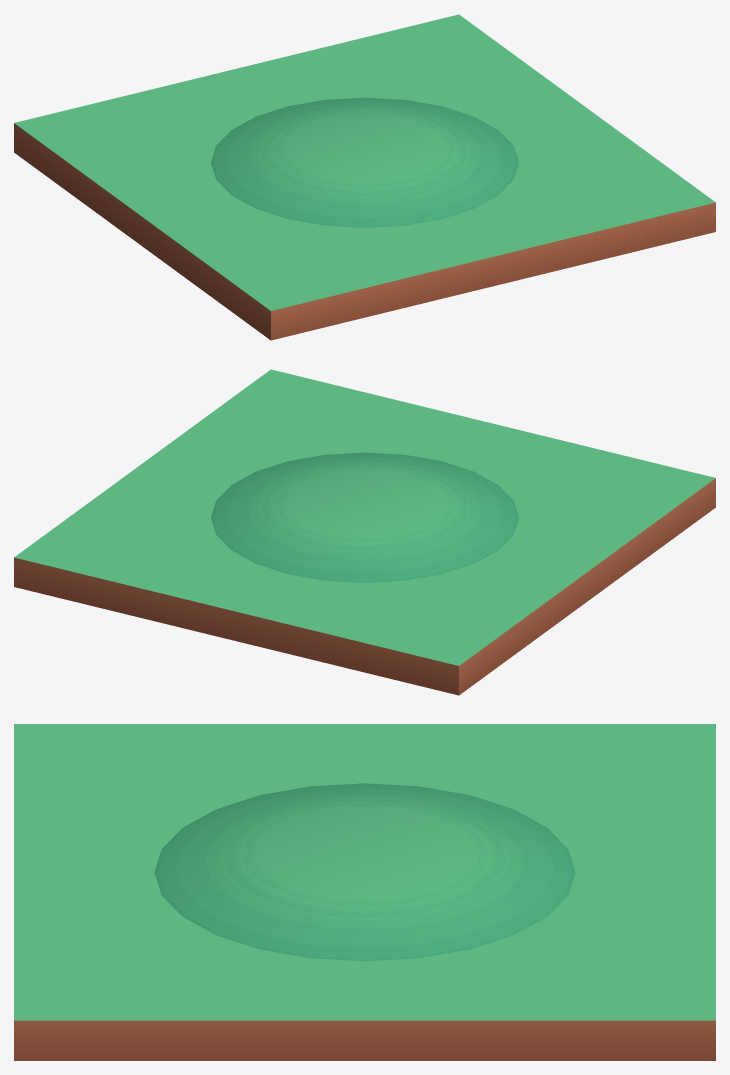
Rendered from bump.glb.
3 renders of one model, top to bottom at view 1: azimuth 30°, elevation 25°; view 2: azimuth 150°, elevation 25°; view 3: azimuth 270°, elevation 25°, orthographic. The views are drawn at different scales.
Visible parts, largest first — view 1: bump; view 2: bump; view 3: bump.
Boxes of the visible parts, left/top/right/bottom form: bump: left=14, top=14, right=715, bottom=340; bump: left=14, top=369, right=715, bottom=695; bump: left=14, top=724, right=715, bottom=1060.
Size of the model in its own units: 0.9999 by 0.0967 by 0.9999.
Materials: 1 (1 with a texture image).
